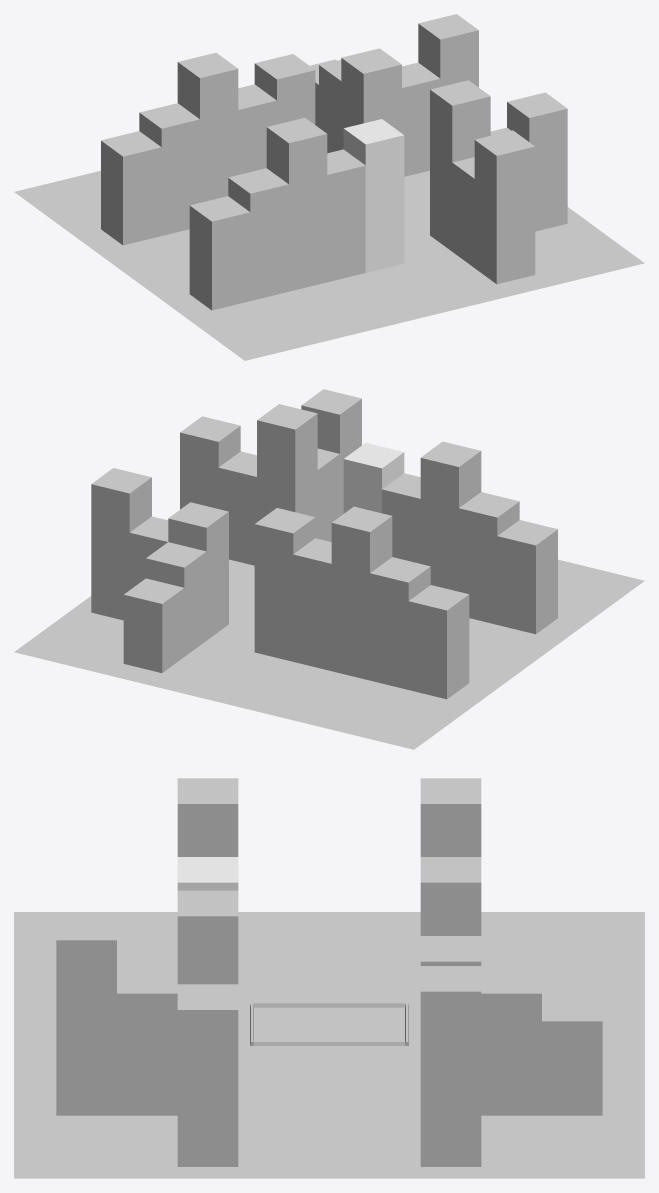
The model's file is Level_Concept.dae.
The picture shows the model from 3 angles, top to bottom: view 1: azimuth 30°, elevation 25°; view 2: azimuth 150°, elevation 25°; view 3: azimuth 270°, elevation 25°; orthographic projection. The views are drawn at different scales.
Visible parts, largest first — view 1: Plane, Cube.016, Cube.006, Cube.007, Cube.001, Cube.018, Cube.019, Cube.015, Cube.009, Cube.012, Cube.008, Cube.005 (+7 smaller); view 2: Plane, Cube.007, Cube.013, Cube.006, Cube.002, Cube.015, Cube.019, Cube.018, Cube.008, Cube.009, Cube.017, Cube.004 (+9 smaller); view 3: Plane, Cube.013, Cube.016, Cube.012, Cube.003, Cube, Cube.017, Cube.015, Cube.007, Cube.006, Cube.002, Cube.001 (+3 smaller).
Part boxes in pixels (x1,y1,x2,y2): Plane: [14, 170, 644, 360]; Cube.016: [474, 130, 535, 284]; Cube.006: [266, 117, 327, 291]; Cube.007: [177, 52, 238, 202]; Cube.001: [343, 119, 404, 272]; Cube.018: [189, 196, 250, 310]; Cube.019: [101, 131, 161, 245]; Cube.015: [430, 80, 490, 251]; Cube.009: [228, 168, 288, 300]; Cube.012: [507, 92, 567, 231]; Cube.008: [139, 103, 199, 235]; Cube.005: [327, 149, 365, 282]; Plane: [14, 559, 644, 749]; Cube.007: [331, 506, 392, 680]; Cube.013: [91, 468, 151, 620]; Cube.006: [420, 441, 481, 591]; Cube.002: [254, 508, 315, 661]; Cube.015: [257, 404, 317, 538]; Cube.019: [408, 585, 469, 699]; Cube.018: [497, 520, 557, 634]; Cube.008: [370, 557, 430, 689]; Cube.009: [459, 492, 519, 624]; Cube.017: [123, 578, 184, 672]; Cube.004: [293, 538, 331, 670]; Plane: [14, 912, 644, 1178]; Cube.013: [420, 966, 481, 1166]; Cube.016: [56, 914, 116, 1115]; Cube.012: [177, 984, 238, 1166]; Cube.003: [481, 968, 541, 1115]; Cube: [117, 968, 177, 1115]; Cube.017: [542, 995, 602, 1115]; Cube.015: [177, 890, 238, 984]; Cube.007: [420, 778, 481, 856]; Cube.006: [177, 778, 238, 856]; Cube.002: [420, 857, 481, 935]; Cube.001: [177, 857, 238, 890].
Size of the model in its own units: 20.8 by 20.8 by 7.38.
Materials: 1 (1 with a texture image).
